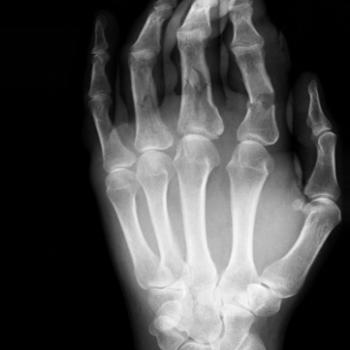Fracture: (176, 66, 214, 104), (245, 88, 291, 112), (134, 73, 158, 111)
